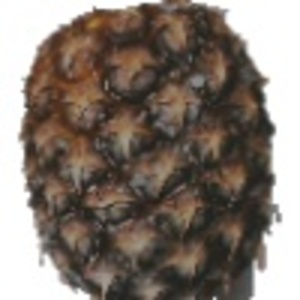abacaxi: (18, 3, 281, 296)
